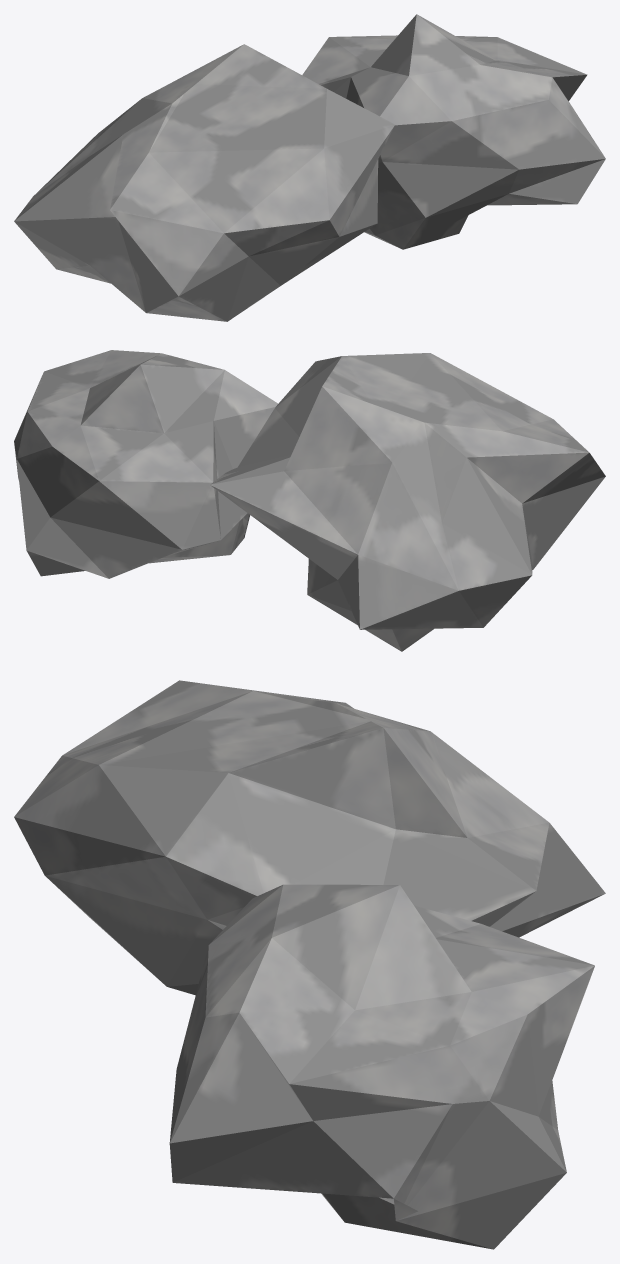
File: stone_2.glb
The picture shows the model from 3 angles, top to bottom: view 1: azimuth 30°, elevation 25°; view 2: azimuth 150°, elevation 25°; view 3: azimuth 270°, elevation 25°; orthographic projection. The views are drawn at different scales.
Parts seen in each view (by area): view 1: stone_2; view 2: stone_2; view 3: stone_2.
Boxes of the visible parts, box(x1,y1,x2,y2) form: stone_2: box(14, 14, 605, 321); stone_2: box(14, 350, 605, 651); stone_2: box(14, 680, 605, 1249).
Bounding box in the file's own units: 0.5122 × 0.2287 × 0.3266.
Materials: 1 (1 with a texture image).
